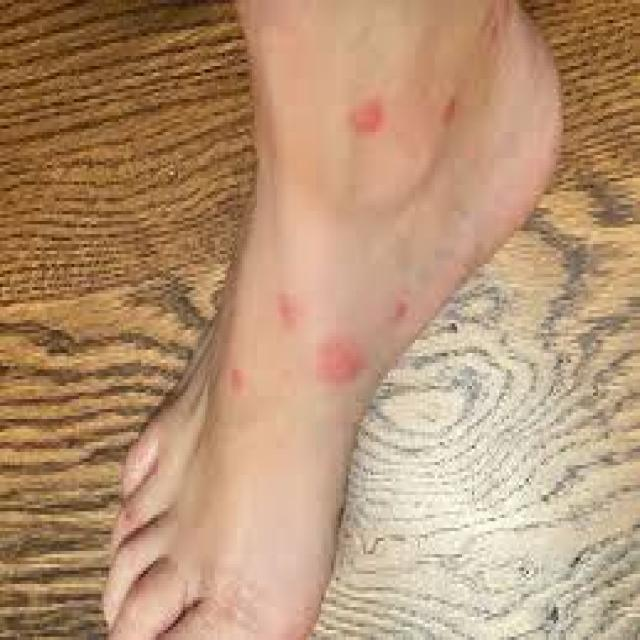kan emici bocekler: (325, 341, 362, 387), (353, 97, 389, 144), (434, 94, 470, 129), (279, 291, 301, 333), (390, 296, 418, 326), (223, 368, 251, 397)
